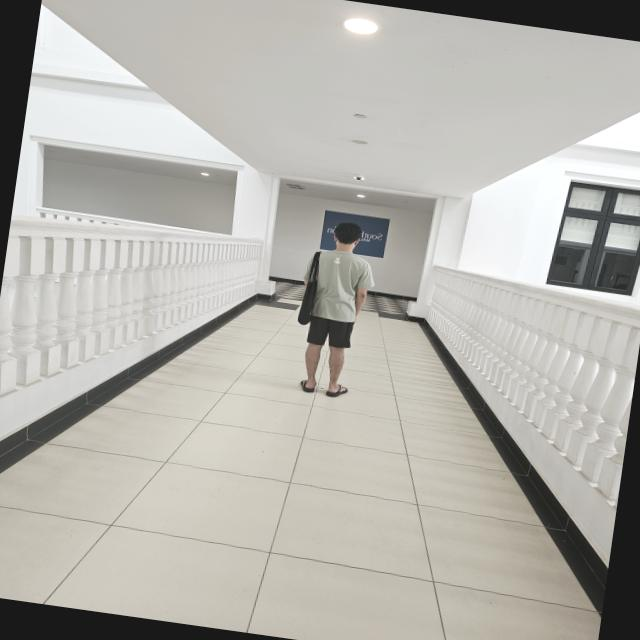footpath: (0, 355, 566, 640)
obstacle: (0, 203, 271, 424), (422, 259, 640, 520), (255, 238, 288, 302), (398, 270, 436, 319)
person: (286, 216, 384, 401)
